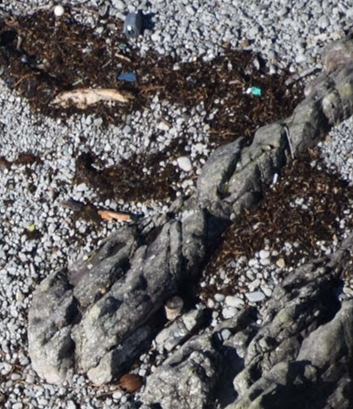scattered_barrel: (45, 1, 153, 83)
straight_bar: (41, 79, 139, 114), (87, 201, 145, 227)
white_in_green: (98, 353, 163, 407), (144, 279, 205, 331), (230, 69, 281, 114)
